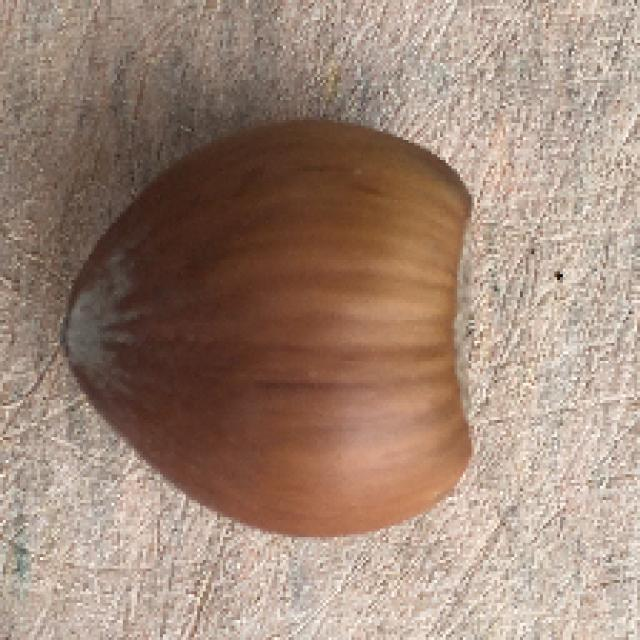qualityHazelnut: (63, 113, 515, 542)
